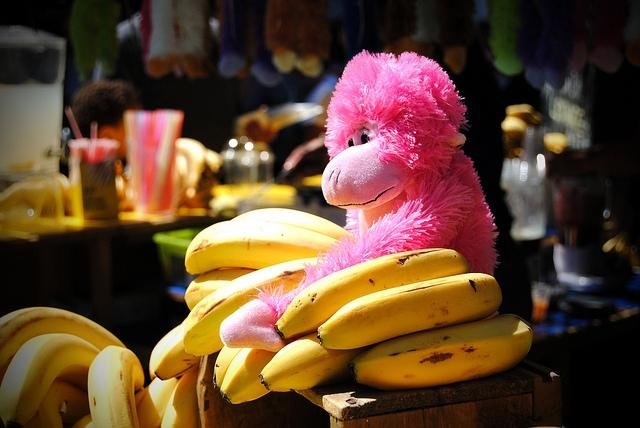banana: (274, 248, 472, 340), (316, 272, 502, 350), (348, 313, 532, 391), (183, 258, 318, 358), (0, 333, 101, 428), (185, 220, 338, 276), (0, 306, 128, 370), (258, 332, 378, 392), (87, 345, 145, 428), (230, 208, 354, 240), (184, 266, 258, 312), (23, 379, 90, 428), (220, 348, 276, 404), (154, 316, 201, 380), (160, 368, 198, 428), (136, 376, 179, 428), (212, 345, 244, 390)
